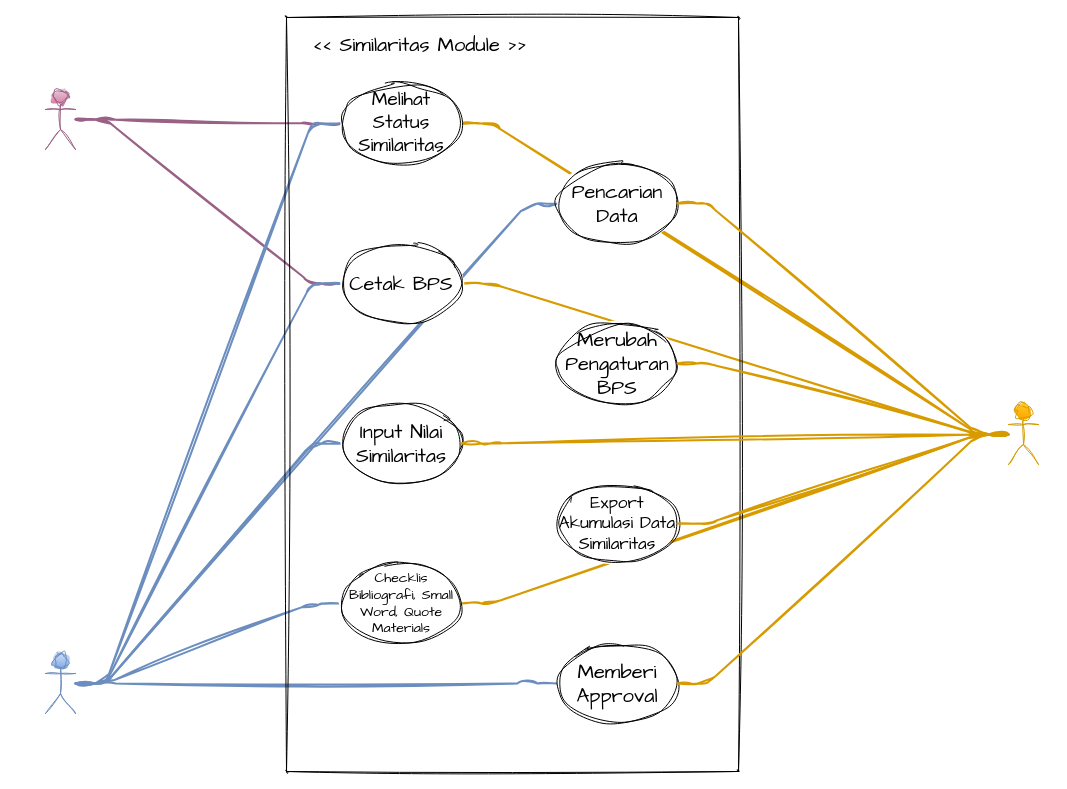
Some shapes in this 1067 by 789 pixel diagram are drawn without their labels. The shapes that lost their labels are listed below. From the top down, each one's centre as x and y in pixels, then its label:
At point 60,119: "Praja".
At point 1023,434: "Admin".
At point 60,683: "Operator".
